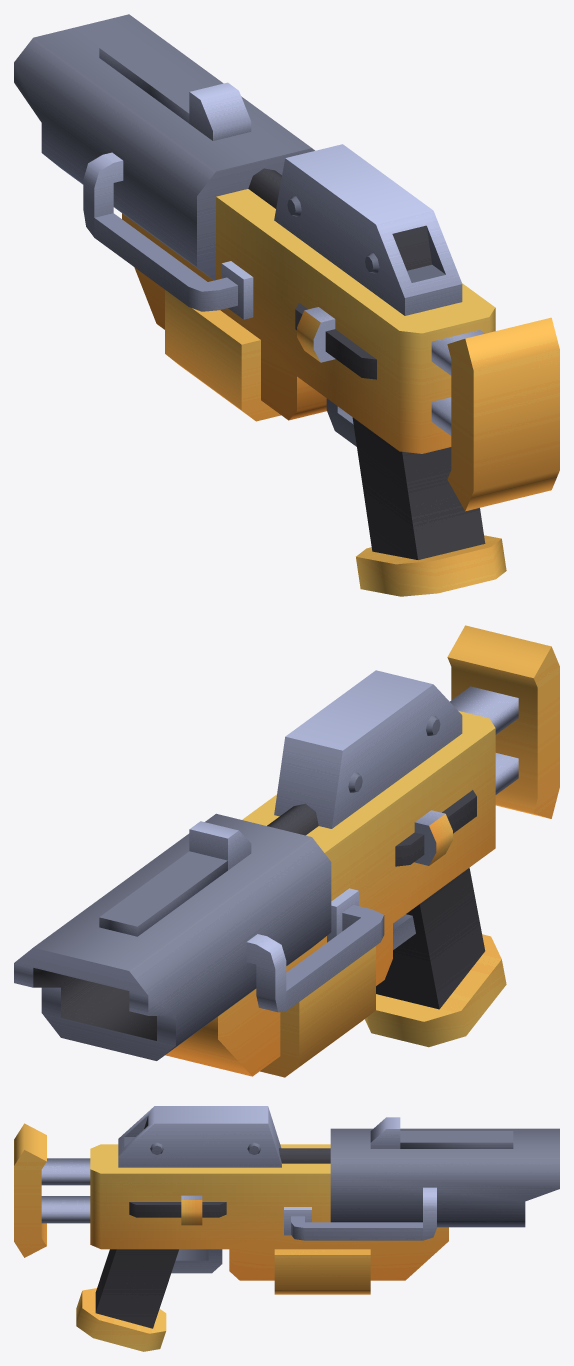
File: blaster-g.glb
3 renders of one model, top to bottom at view 1: azimuth 30°, elevation 25°; view 2: azimuth 150°, elevation 25°; view 3: azimuth 270°, elevation 25°, orthographic. The views are drawn at different scales.
Parts seen in each view (by area): view 1: blaster-g; view 2: blaster-g; view 3: blaster-g.
Boxes of the visible parts, box(x1,y1,x2,y2) form: blaster-g: box(14, 14, 559, 596); blaster-g: box(14, 625, 559, 1077); blaster-g: box(14, 1106, 559, 1351).
Size of the model in its own units: 0.2 by 0.3579 by 0.7859.
1 material, 1 textured.
